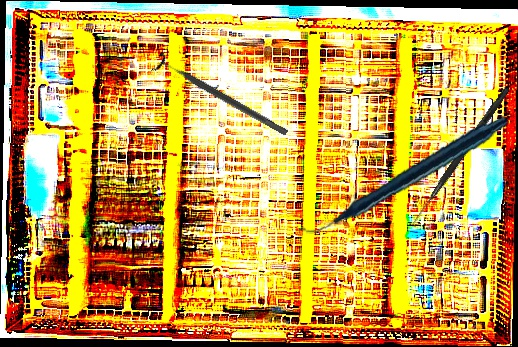Fixation Ring: (150, 50, 293, 144)
Handpiece: (300, 94, 509, 254)
Hook Surgical: (411, 85, 510, 227)
